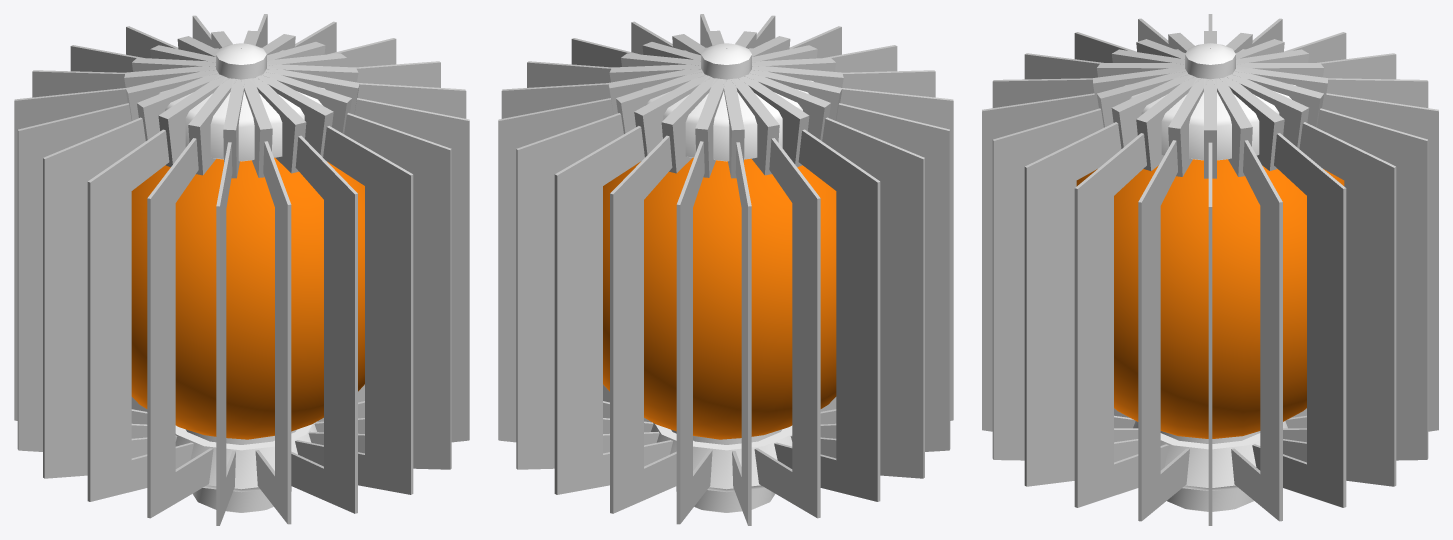
File: prison model.dae
3 renders of one model, left to right at view 1: azimuth 30°, elevation 25°; view 2: azimuth 150°, elevation 25°; view 3: azimuth 270°, elevation 25°, orthographic.
Visible parts, largest first — view 1: Polygon_Mesh (×22); view 2: Polygon_Mesh (×22); view 3: Polygon_Mesh (×21).
Part boxes in pixels (x1,y1,x2,y2): Polygon_Mesh (×22): (14,15,469,525); Polygon_Mesh (×22): (498,15,953,525); Polygon_Mesh (×21): (982,18,1438,525).
Size of the model in its own units: 296 by 320 by 296.
